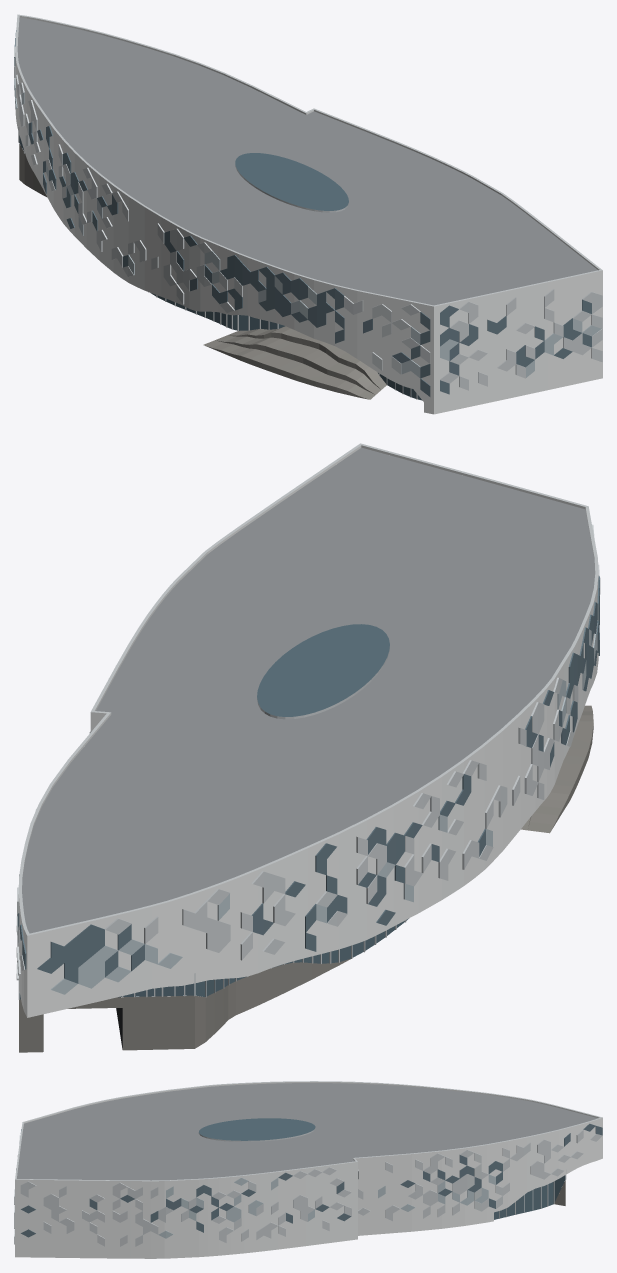
The model's file is calgary-central-library-near.glb.
The picture shows the model from 3 angles, top to bottom: view 1: azimuth 30°, elevation 25°; view 2: azimuth 150°, elevation 25°; view 3: azimuth 270°, elevation 25°; orthographic projection. The views are drawn at different scales.
Visible parts, largest first — view 1: calgary-central-library-0-roof, calgary-central-library-0-panel, calgary-central-library-0-silver, calgary-central-library-0-glass, calgary-central-library-0-stone, calgary-central-library-0-glow, calgary-central-library-0-frit; view 2: calgary-central-library-0-roof, calgary-central-library-0-panel, calgary-central-library-0-silver, calgary-central-library-0-stone, calgary-central-library-0-glow, calgary-central-library-0-glass, calgary-central-library-0-frit; view 3: calgary-central-library-0-roof, calgary-central-library-0-panel, calgary-central-library-0-silver, calgary-central-library-0-glow, calgary-central-library-0-glass, calgary-central-library-0-frit.
Boxes of the visible parts, box(x1,y1,x2,y2) form: calgary-central-library-0-roof: box(17, 17, 597, 305); calgary-central-library-0-panel: box(15, 16, 602, 414); calgary-central-library-0-silver: box(14, 14, 602, 399); calgary-central-library-0-glass: box(14, 30, 591, 396); calgary-central-library-0-stone: box(19, 143, 386, 399); calgary-central-library-0-glow: box(19, 135, 422, 400); calgary-central-library-0-frit: box(14, 78, 601, 377); calgary-central-library-0-roof: box(22, 447, 595, 933); calgary-central-library-0-panel: box(18, 445, 598, 1017); calgary-central-library-0-silver: box(16, 443, 600, 999); calgary-central-library-0-stone: box(19, 705, 593, 1052); calgary-central-library-0-glow: box(19, 624, 408, 999); calgary-central-library-0-glass: box(17, 576, 599, 983); calgary-central-library-0-frit: box(51, 604, 598, 994); calgary-central-library-0-roof: box(17, 1083, 597, 1180); calgary-central-library-0-panel: box(15, 1082, 602, 1258); calgary-central-library-0-silver: box(14, 1081, 602, 1246); calgary-central-library-0-glow: box(199, 1118, 565, 1219); calgary-central-library-0-glass: box(20, 1123, 602, 1237); calgary-central-library-0-frit: box(158, 1174, 495, 1238).
Size of the model in its own units: 56.86 by 20.4 by 140.
